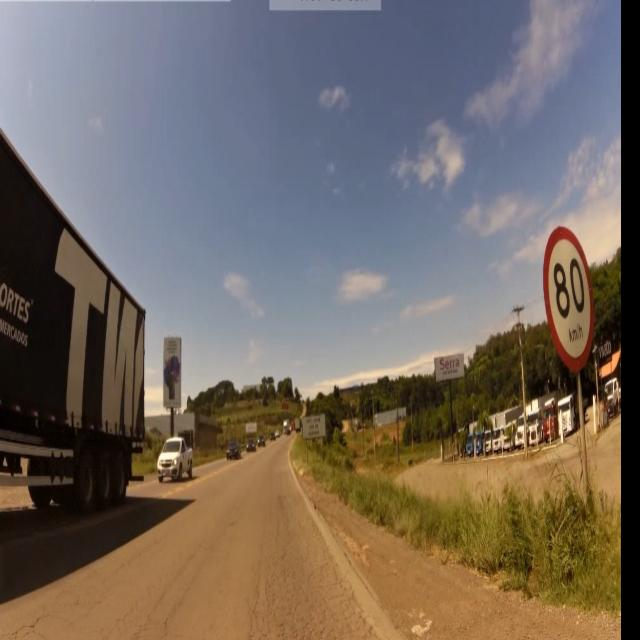R-19: (542, 221, 597, 376)
